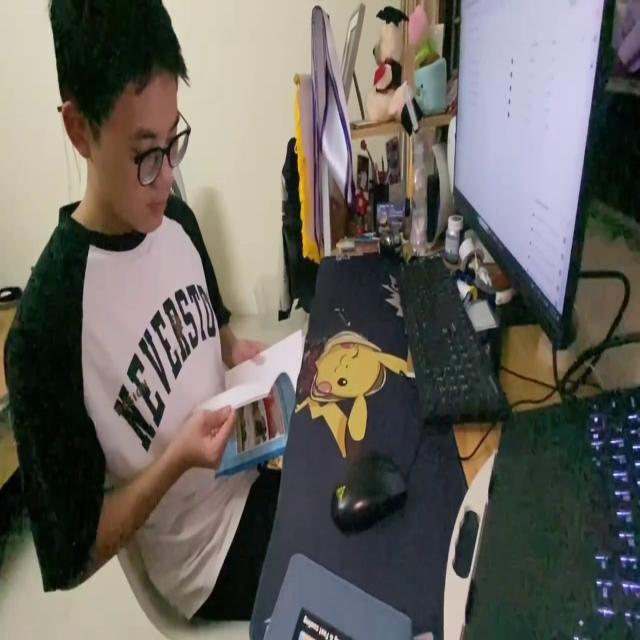book: (452, 0, 618, 351), (192, 329, 308, 476)
laptop: (451, 386, 640, 640)
student: (0, 0, 284, 623)
